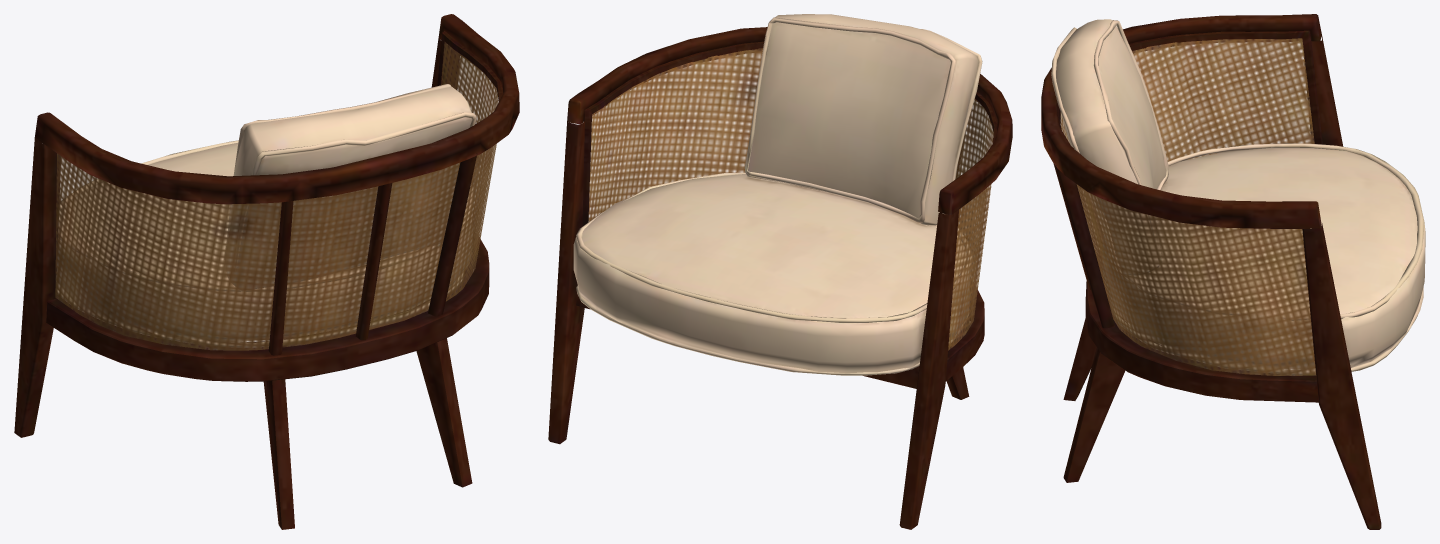
Rendered from office-lounge3.glb.
3 renders of one model, left to right at view 1: azimuth 30°, elevation 25°; view 2: azimuth 150°, elevation 25°; view 3: azimuth 270°, elevation 25°, orthographic. The views are drawn at different scales.
Parts seen in each view (by area): view 1: Object_2; view 2: Object_2; view 3: Object_2.
Part boxes in pixels (left/top/right/bottom): Object_2: left=14, top=14, right=519, bottom=529; Object_2: left=548, top=14, right=1012, bottom=529; Object_2: left=1041, top=14, right=1425, bottom=529.
Size of the model in its own units: 73.14 by 65.67 by 61.25.
Materials: 1 (1 with a texture image).
